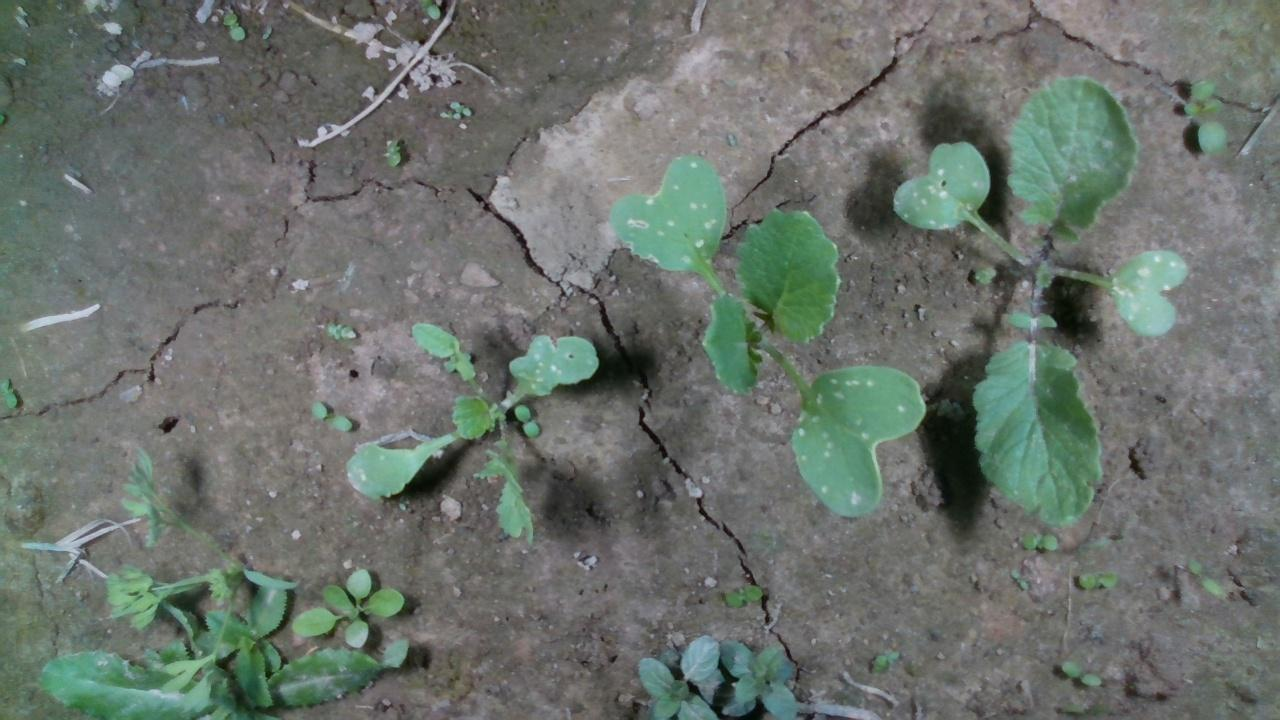weed: (1181, 76, 1228, 158), (1186, 557, 1222, 596), (309, 400, 353, 431), (1058, 659, 1102, 687), (722, 582, 763, 609), (513, 402, 539, 439), (1074, 570, 1119, 590), (1018, 531, 1058, 551), (220, 11, 245, 40), (382, 136, 402, 168), (323, 320, 355, 339), (0, 375, 17, 408), (1007, 567, 1029, 590), (260, 25, 273, 40)
